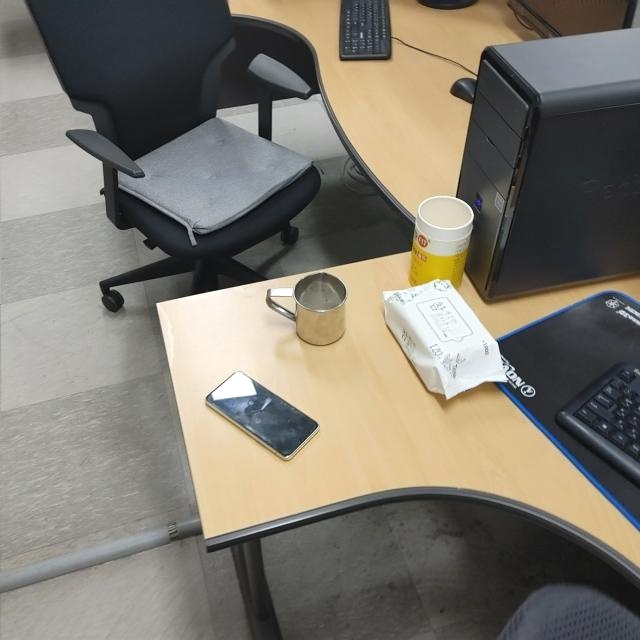cup: (265, 271, 349, 348)
phone: (204, 369, 320, 461)
